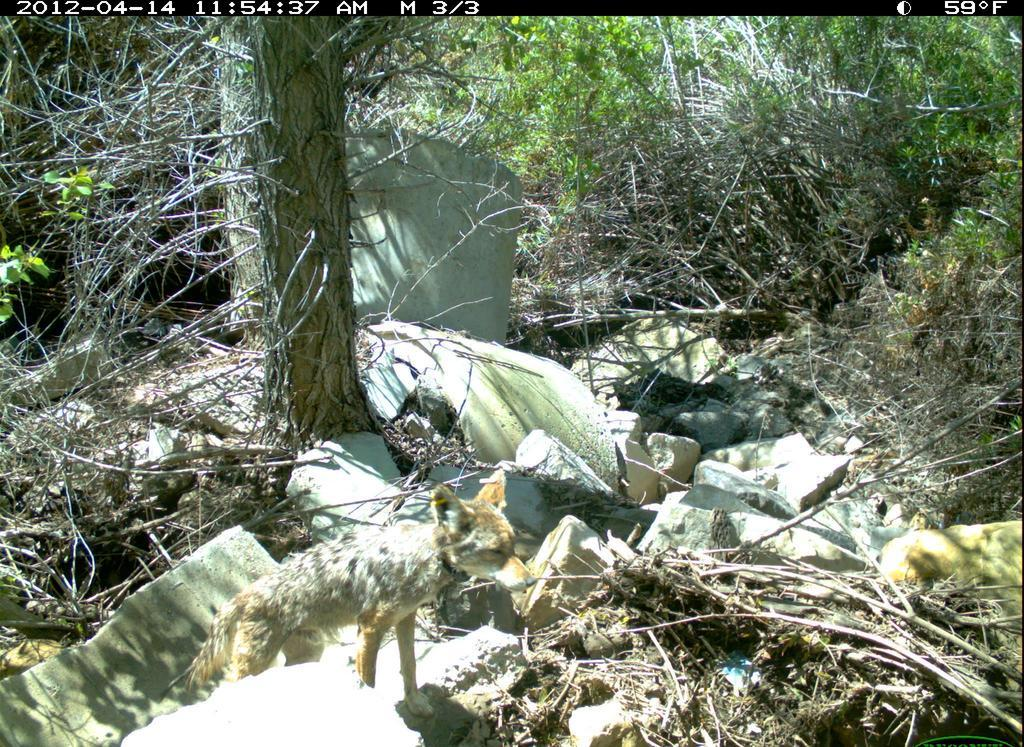coyote: (172, 464, 542, 725)
